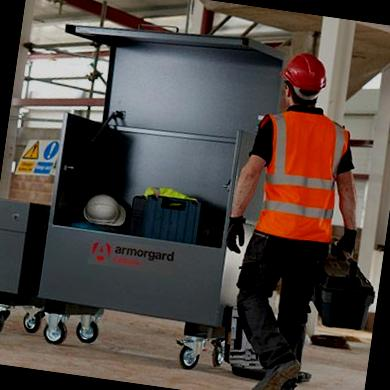helmet: (276, 48, 335, 100)
person: (210, 43, 381, 390)
